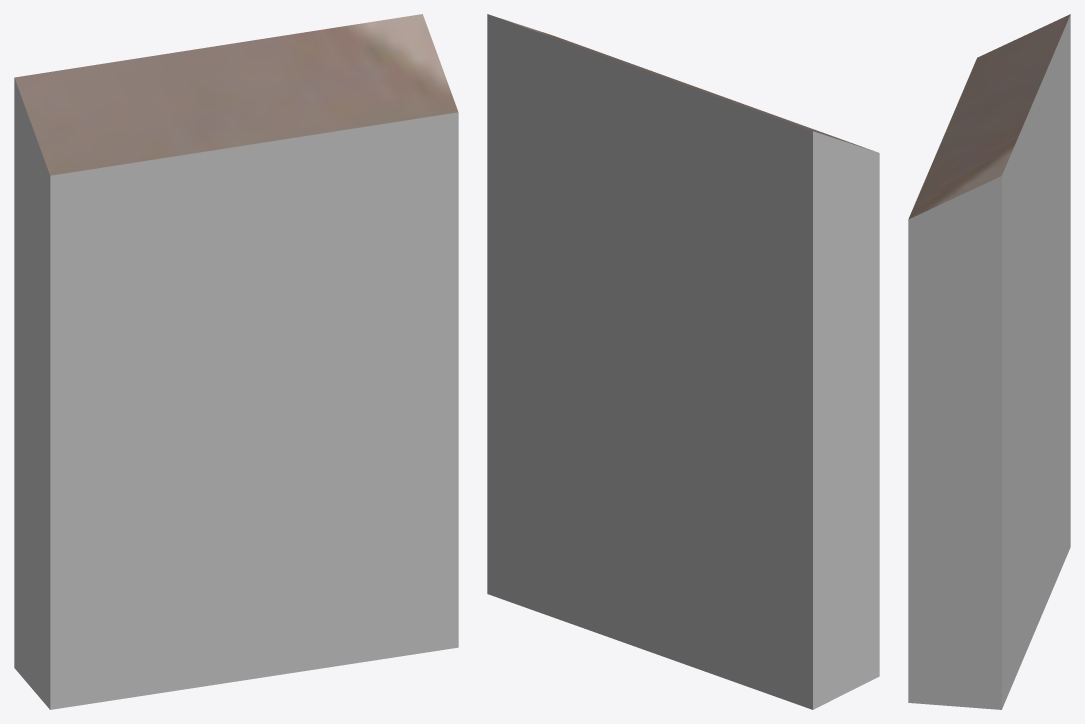
File: DEBW_0010007THZQ.gltf
The picture shows the model from 3 angles, left to right: view 1: azimuth 30°, elevation 25°; view 2: azimuth 150°, elevation 25°; view 3: azimuth 270°, elevation 25°; orthographic projection. The views are drawn at different scales.
Visible parts, largest first — view 1: Z_UP; view 2: Z_UP; view 3: Z_UP.
Boxes of the visible parts, x1,y1,x2,y2 form: Z_UP: [14, 14, 458, 709]; Z_UP: [487, 14, 879, 709]; Z_UP: [908, 14, 1070, 709].
Size of the model in its own units: 7.18 by 10.51 by 2.9.
Materials: 2 (1 with a texture image).
